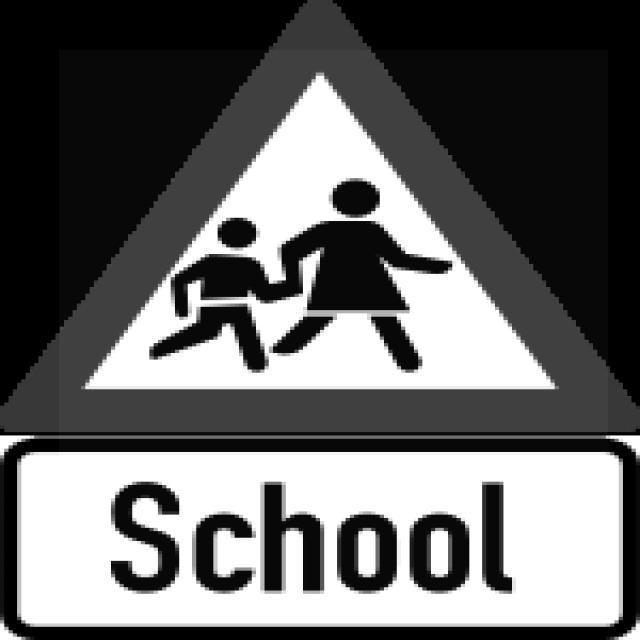school ahead: (33, 24, 614, 429)
